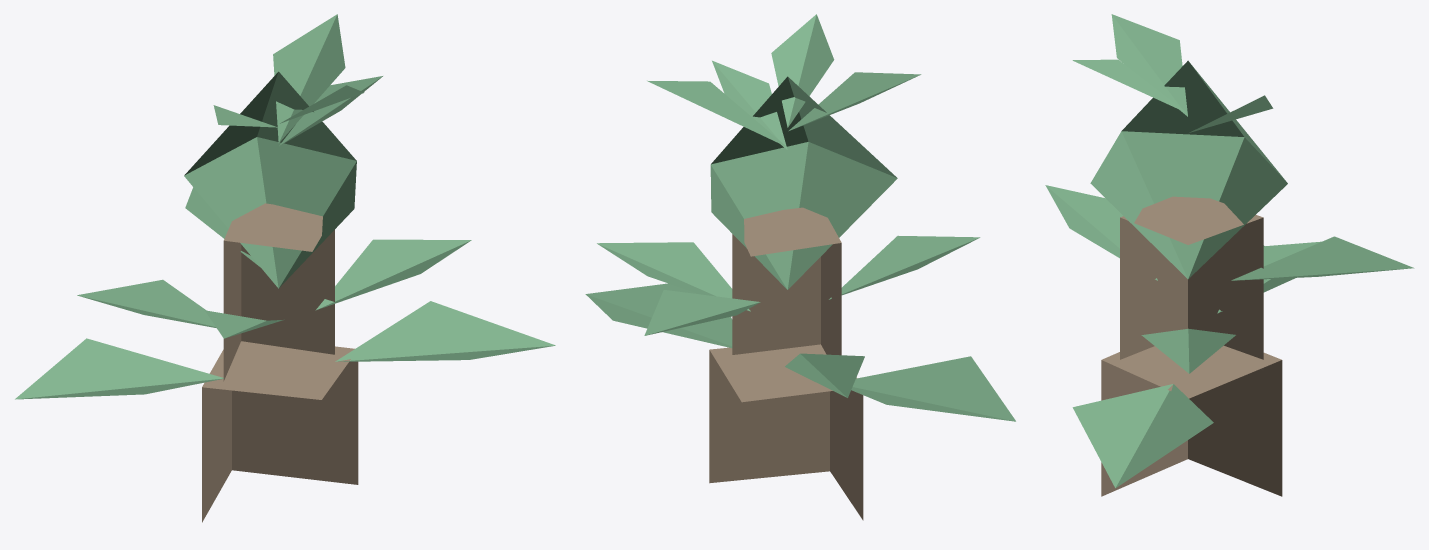
Rendered from shui.huwei@seedling__bloom.glb.
3 renders of one model, left to right at view 1: azimuth 30°, elevation 25°; view 2: azimuth 150°, elevation 25°; view 3: azimuth 270°, elevation 25°, orthographic. The views are drawn at different scales.
Visible parts, largest first — view 1: shui.huwei@seedling__bloom; view 2: shui.huwei@seedling__bloom; view 3: shui.huwei@seedling__bloom.
Part boxes in pixels (x1,y1,x2,y2): shui.huwei@seedling__bloom: [15, 14, 555, 522]; shui.huwei@seedling__bloom: [585, 14, 1015, 520]; shui.huwei@seedling__bloom: [1045, 14, 1414, 496].
Size of the model in its own units: 0.1003 by 0.0874 by 0.065.
